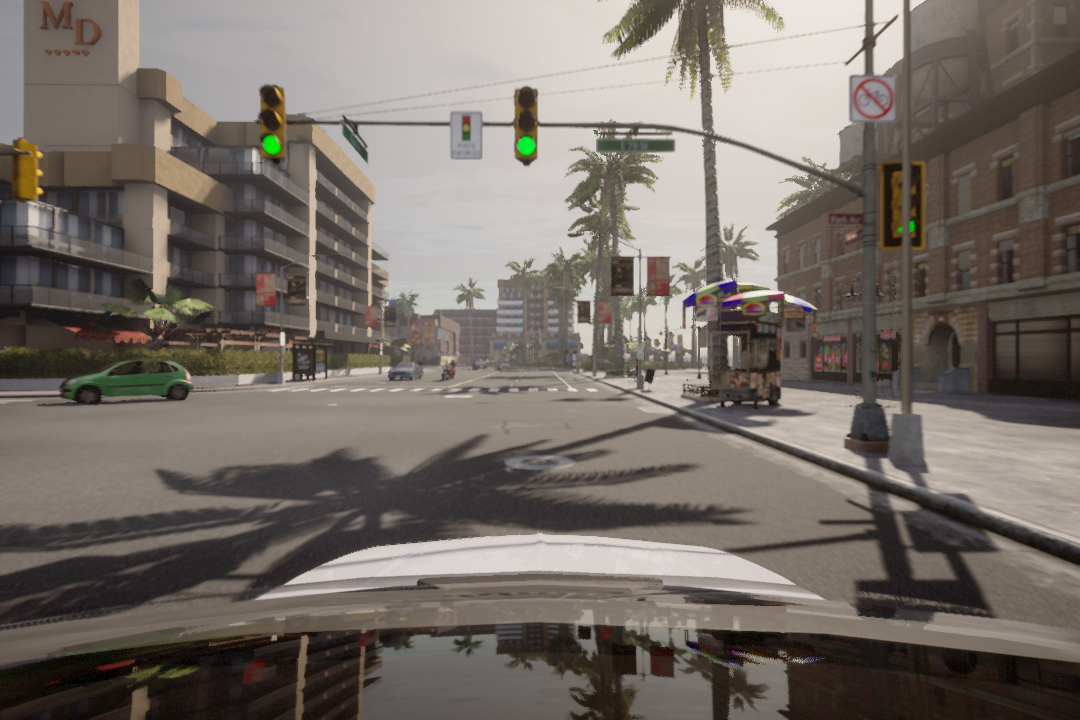TrafficLight: (881, 161, 928, 249), (253, 83, 291, 161), (513, 86, 542, 162)
TrafficSign: (851, 75, 898, 127)
